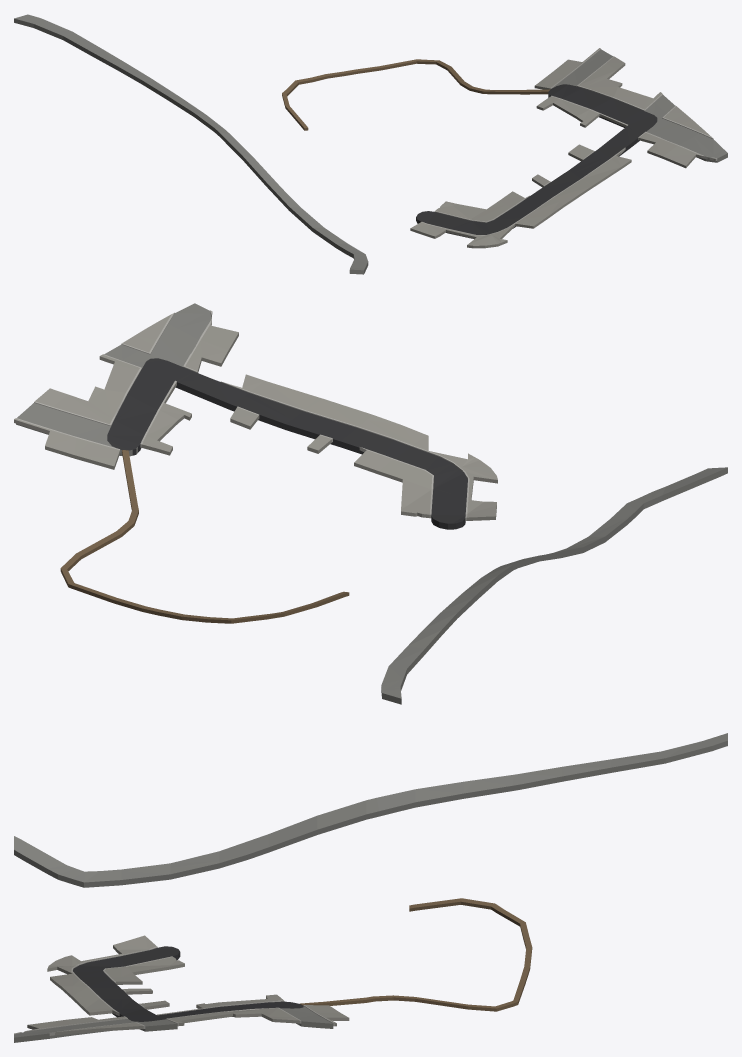
3 renders of one model, top to bottom at view 1: azimuth 30°, elevation 25°; view 2: azimuth 150°, elevation 25°; view 3: azimuth 270°, elevation 25°, orthographic. The views are drawn at different scales.
Size of the model in its own units: 128 by 24.84 by 146.
